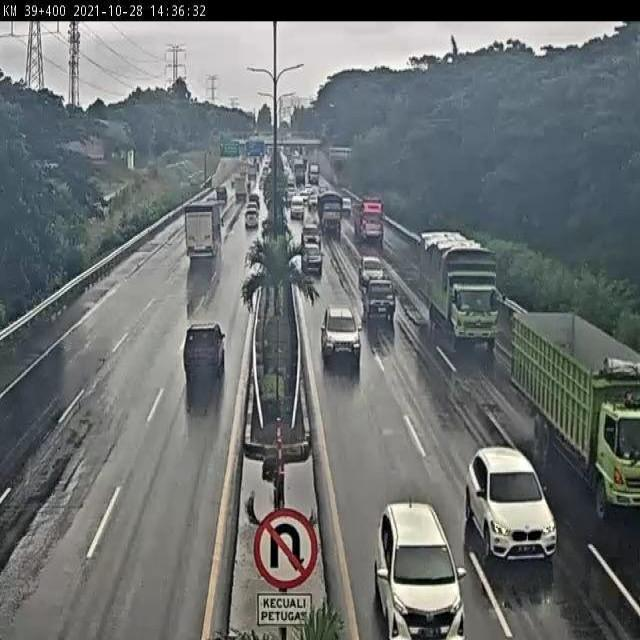car: (374, 502, 466, 640), (464, 441, 560, 559), (319, 306, 362, 366), (184, 323, 227, 368), (361, 275, 396, 321), (360, 256, 384, 287), (300, 241, 322, 272), (301, 224, 321, 249), (243, 205, 260, 232)
truck: (509, 312, 640, 505), (418, 231, 500, 351), (181, 200, 223, 257), (350, 194, 386, 246), (317, 192, 343, 236)
